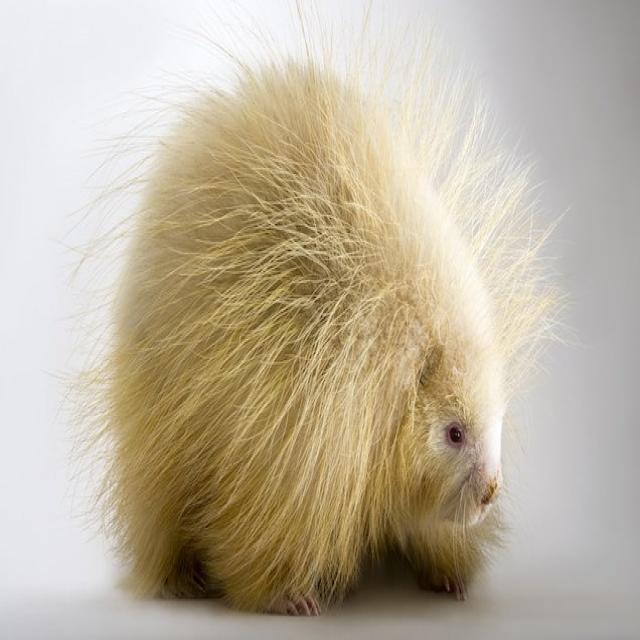Porcupine: (117, 78, 504, 592)
